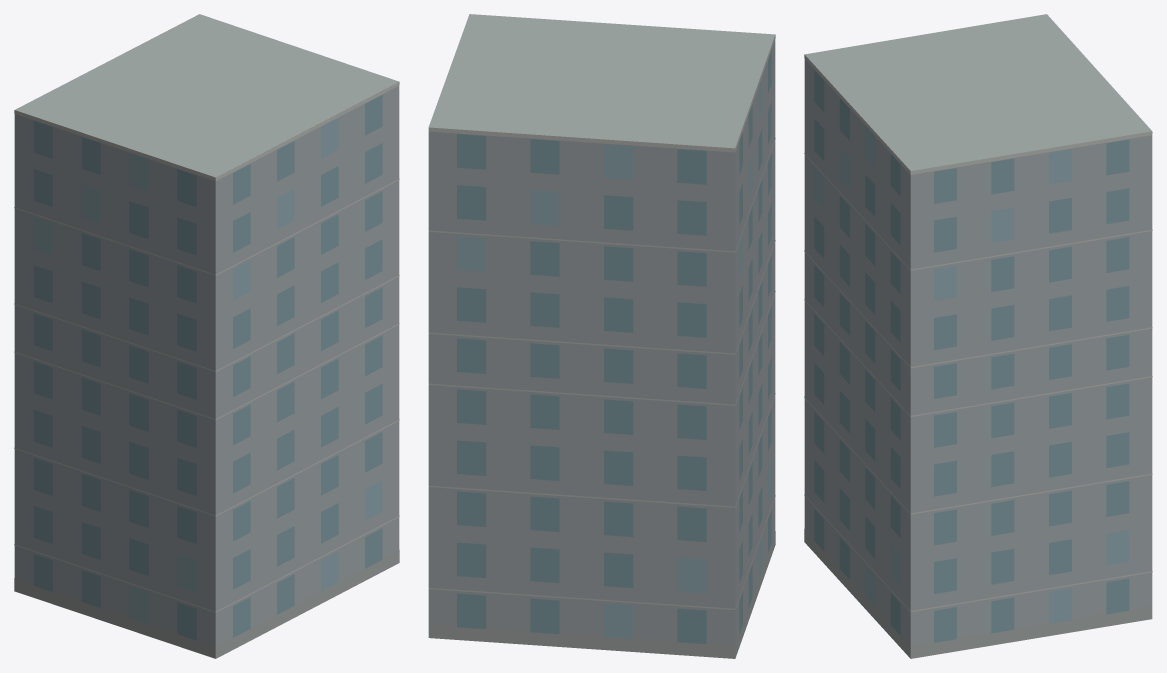
Rendered from survey-upis-32865685.glb.
3 renders of one model, left to right at view 1: azimuth 30°, elevation 25°; view 2: azimuth 150°, elevation 25°; view 3: azimuth 270°, elevation 25°, orthographic. The views are drawn at different scales.
Parts seen in each view (by area): view 1: survey-upis-32865685.tmp; view 2: survey-upis-32865685.tmp; view 3: survey-upis-32865685.tmp.
Boxes of the visible parts, x1,y1,x2,y2 form: survey-upis-32865685.tmp: (14,14,399,658); survey-upis-32865685.tmp: (428,14,775,658); survey-upis-32865685.tmp: (804,14,1152,658).
Size of the model in its own units: 21.1 by 30.5 by 19.74.
